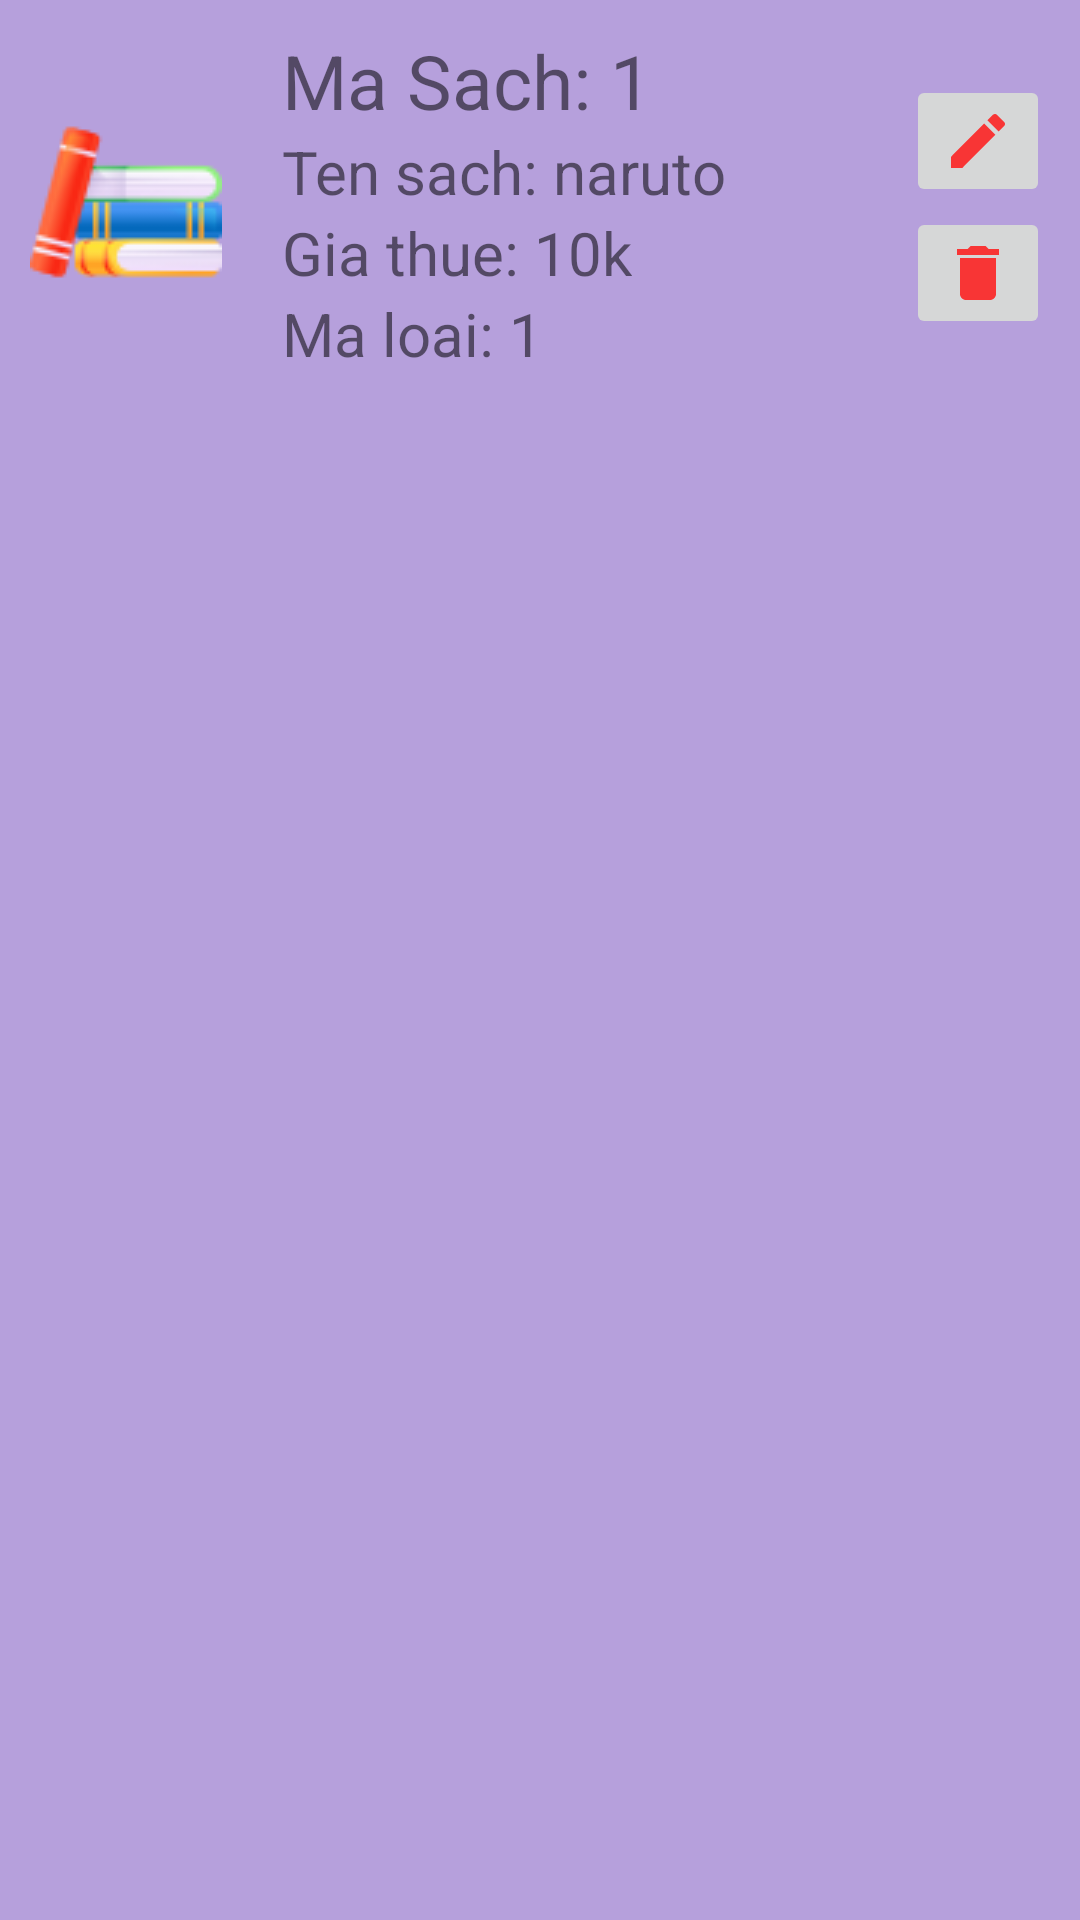

Icons on this 1080w x 1920h Android screen, each with the point to tap as (x,y):
books: (126,202)
sua: (978,141)
xoa: (978,273)
